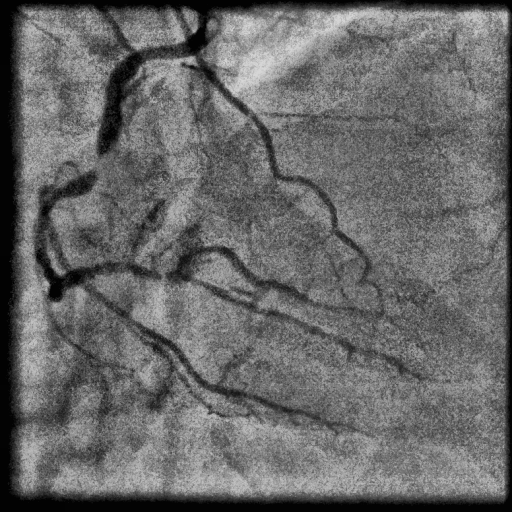pborca: (176, 247, 343, 311)
pda: (181, 274, 419, 379)
rca: (34, 32, 213, 302)
